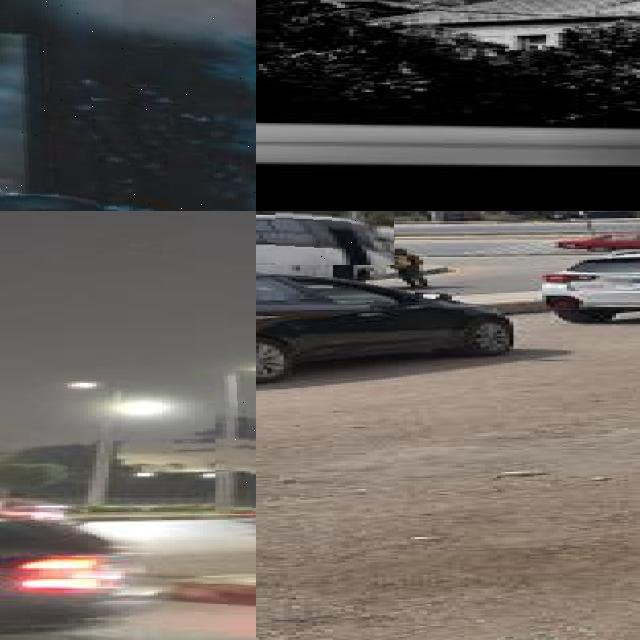street light: (0, 0, 256, 211), (64, 380, 127, 507), (275, 211, 394, 264), (216, 370, 256, 514)
